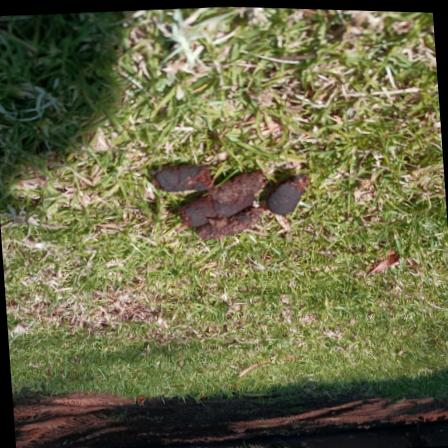dog-poop: (138, 139, 316, 261)
